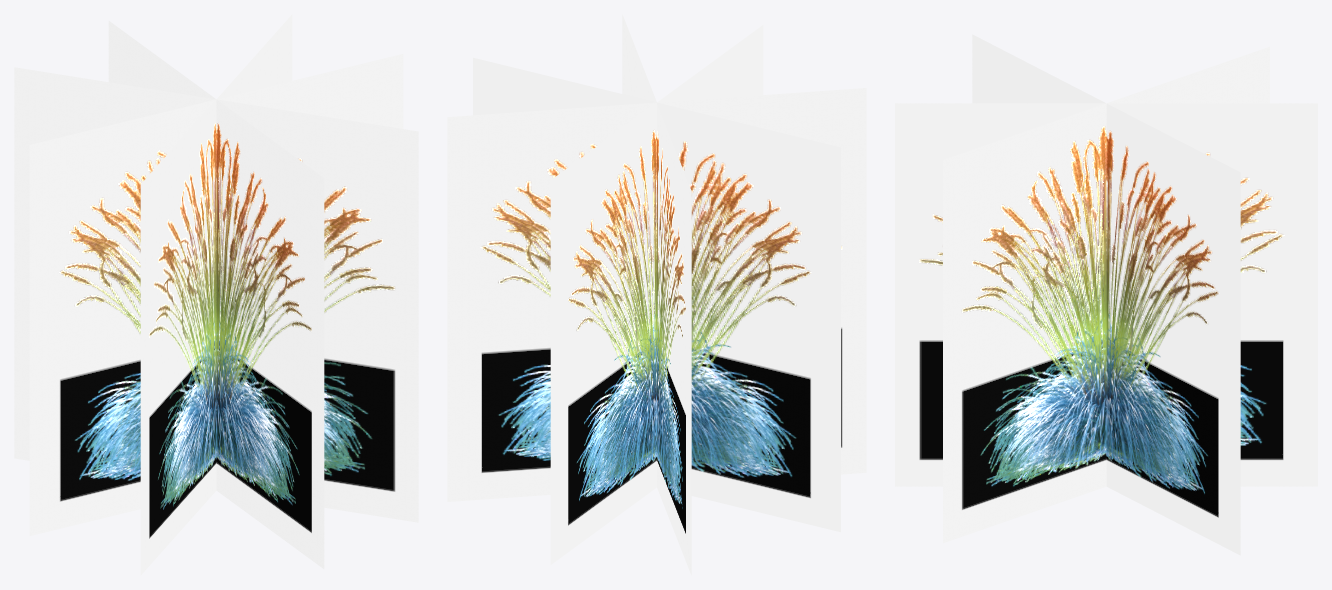
File: grass_3.glb
3 renders of one model, left to right at view 1: azimuth 30°, elevation 25°; view 2: azimuth 150°, elevation 25°; view 3: azimuth 270°, elevation 25°, orthographic. The views are drawn at different scales.
Visible parts, largest first — view 1: Plane.005; view 2: Plane.005; view 3: Plane.005.
Boxes of the visible parts, x1,y1,x2,y2 form: Plane.005: [14, 14, 418, 575]; Plane.005: [447, 14, 866, 575]; Plane.005: [895, 34, 1317, 555].
Bounding box in the file's own units: 6.45 × 6.45 × 6.45.
Materials: 1 (1 with a texture image).
